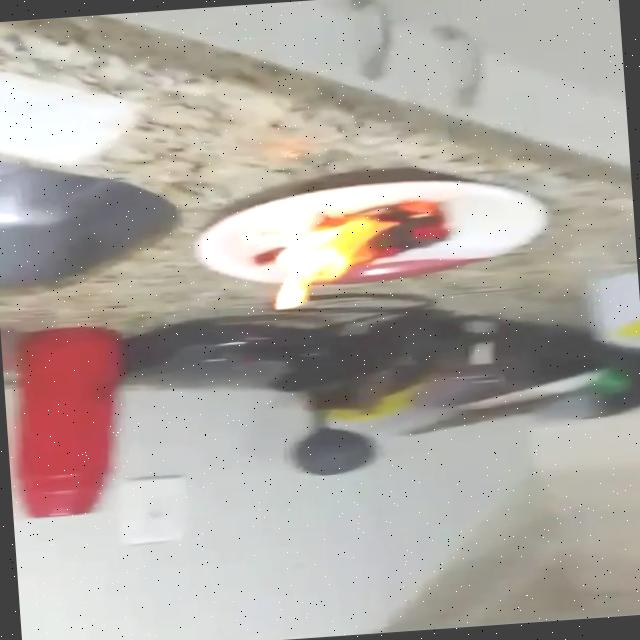fire: (261, 194, 463, 313)
